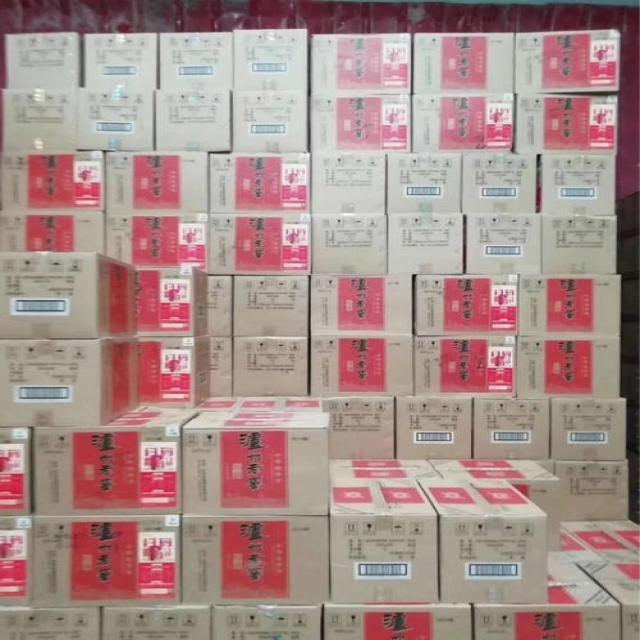box: (33, 406, 201, 517), (416, 479, 549, 603), (182, 410, 330, 515), (31, 515, 182, 609), (330, 480, 438, 605), (182, 515, 329, 604), (428, 459, 566, 552), (0, 337, 138, 428), (0, 251, 136, 339), (474, 563, 623, 640), (515, 30, 620, 92), (515, 93, 620, 155), (516, 337, 621, 399), (207, 213, 311, 275), (308, 335, 413, 396), (412, 32, 515, 94), (308, 33, 411, 95), (105, 151, 207, 213), (105, 211, 207, 273), (413, 335, 516, 396), (415, 275, 518, 335), (210, 152, 311, 213), (520, 275, 621, 336), (1, 151, 105, 210), (411, 92, 513, 152), (310, 275, 412, 334), (310, 94, 411, 152), (1, 88, 81, 156), (323, 604, 474, 640), (138, 335, 209, 408), (76, 87, 154, 151), (136, 268, 209, 336), (575, 563, 640, 639), (472, 397, 550, 459), (550, 397, 626, 460), (0, 210, 105, 255), (232, 90, 308, 152), (320, 396, 396, 458), (466, 214, 543, 275), (311, 214, 388, 275), (538, 155, 616, 215), (554, 460, 628, 523), (233, 28, 308, 90), (155, 89, 230, 151), (387, 152, 462, 214), (311, 152, 387, 213), (396, 397, 472, 458), (388, 214, 463, 275), (233, 275, 308, 336), (462, 152, 536, 213), (232, 337, 308, 396), (543, 214, 616, 275), (4, 32, 82, 89), (159, 32, 233, 89), (211, 604, 323, 640), (83, 33, 157, 87), (101, 606, 210, 640), (0, 607, 101, 640), (562, 520, 640, 562), (0, 428, 32, 517), (0, 518, 31, 608), (330, 459, 443, 479), (549, 530, 608, 563), (207, 276, 233, 336), (209, 336, 233, 397), (232, 396, 324, 411), (196, 397, 243, 410)
